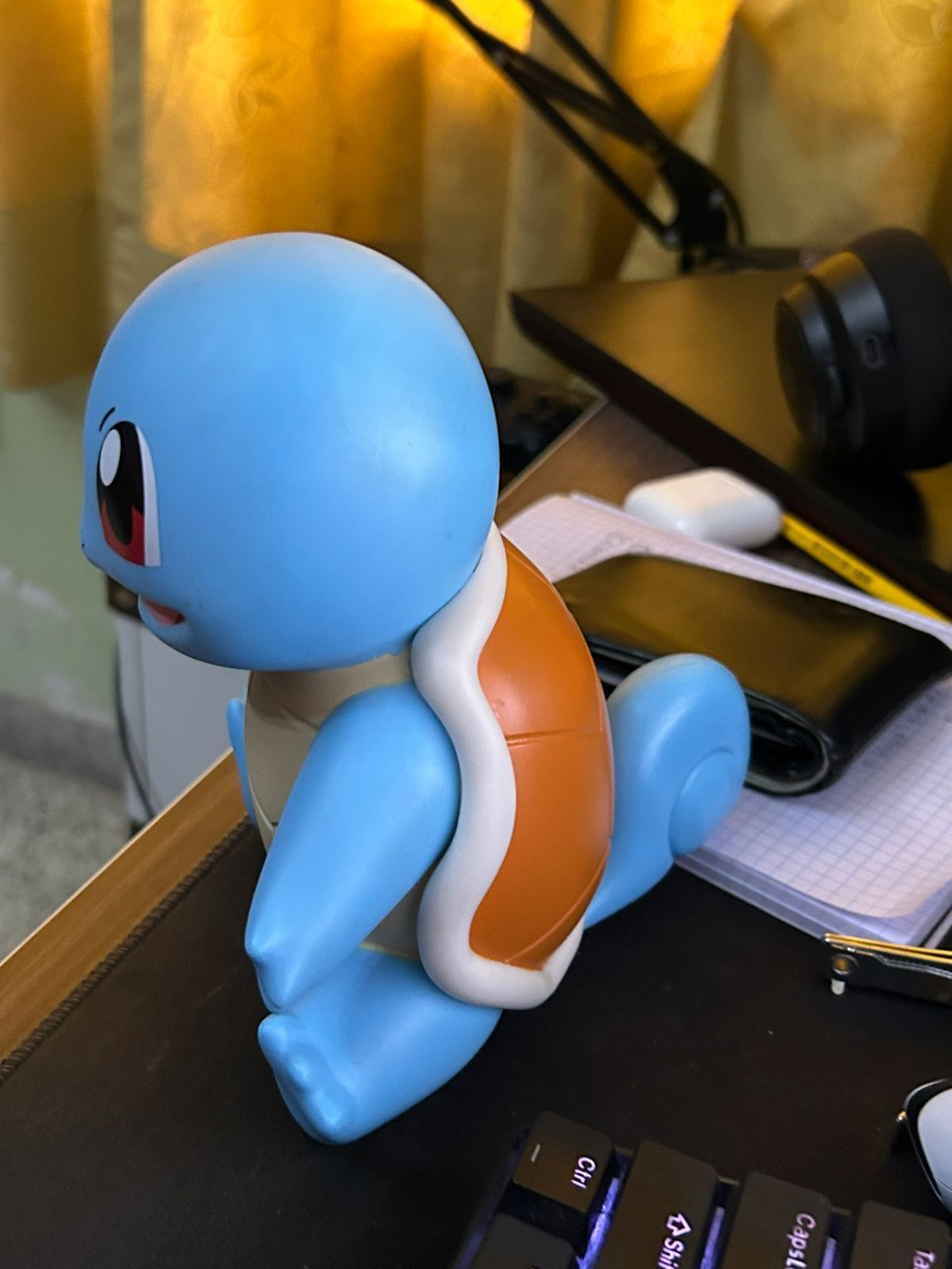Squirtle: (82, 233, 748, 1141)
